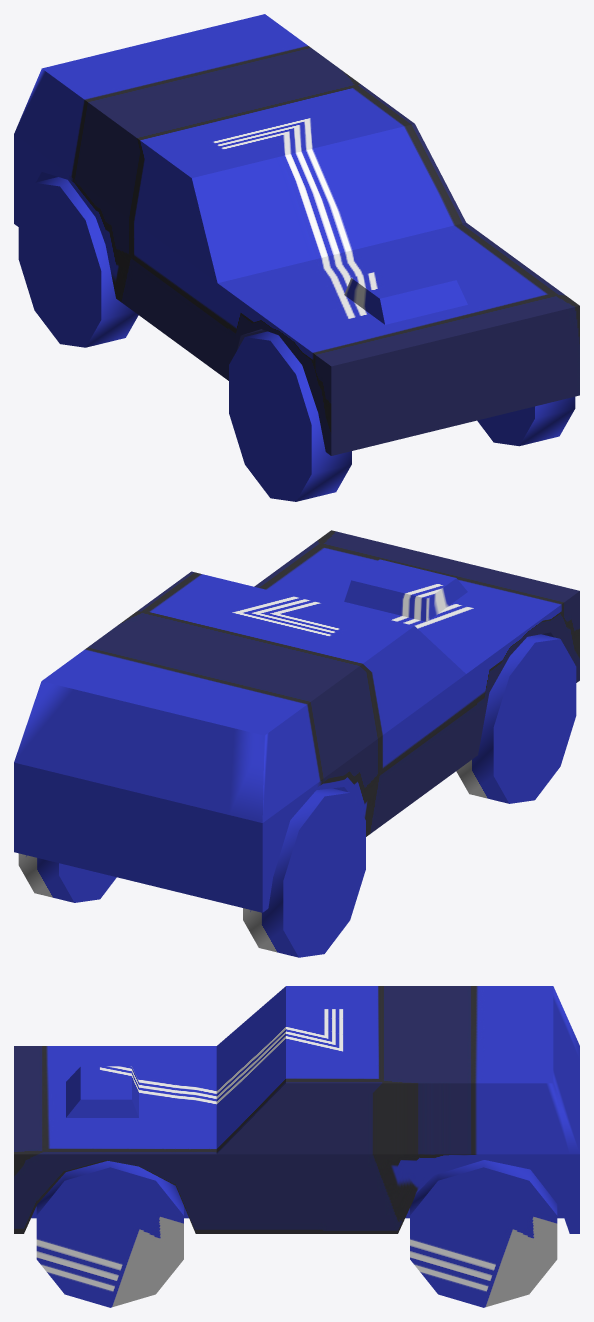
File: HotRod 1.fbx
3 views of the same model, one above another, from view 1: azimuth 30°, elevation 25°; view 2: azimuth 150°, elevation 25°; view 3: azimuth 270°, elevation 25° (orthographic). The views are drawn at different scales.
Parts seen in each view (by area): view 1: HotRodShell, FRWheel, BRWheel, FLWheel; view 2: HotRodShell, BRWheel, FRWheel, BLWheel; view 3: HotRodShell, BLWheel, FLWheel.
Boxes of the visible parts, box(x1,y1,x2,y2) form: HotRodShell: box(14, 14, 579, 455); FRWheel: box(229, 331, 351, 501); BRWheel: box(18, 177, 138, 347); FLWheel: box(477, 396, 575, 446); HotRodShell: box(14, 530, 579, 912); BRWheel: box(243, 788, 365, 957); FRWheel: box(456, 634, 576, 803); BLWheel: box(18, 853, 116, 902); HotRodShell: box(14, 986, 579, 1233); BLWheel: box(410, 1160, 557, 1307); FLWheel: box(36, 1161, 183, 1307).
Size of the model in its own units: 141 by 124 by 294.
